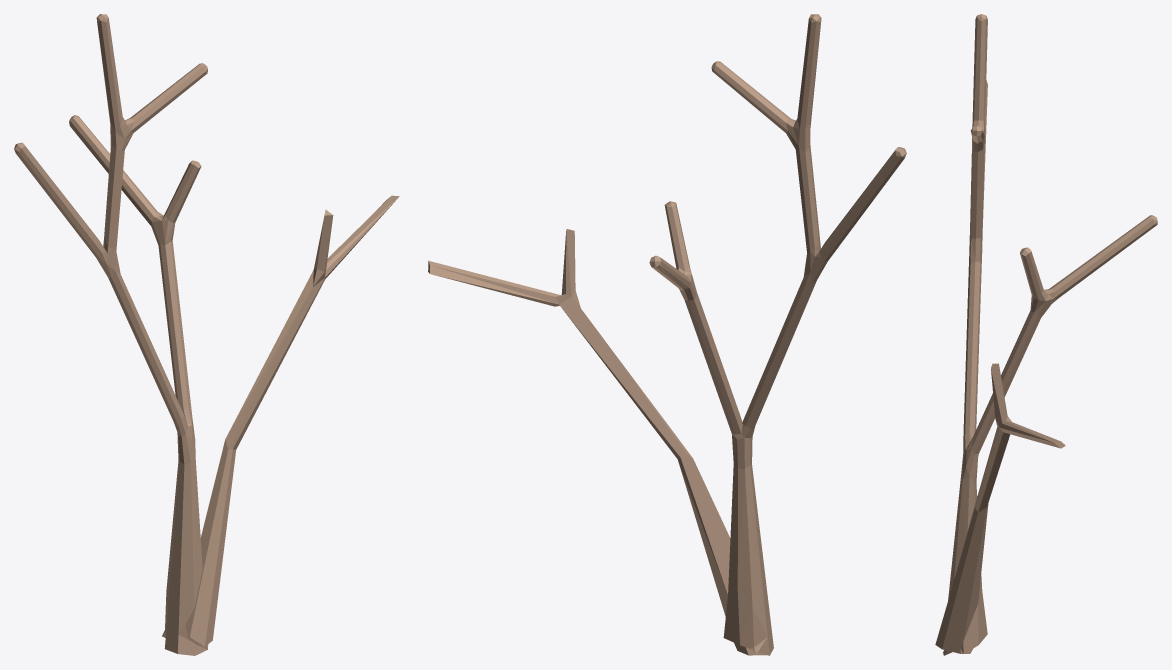
Rendered from trunk14.fbx.
3 renders of one model, left to right at view 1: azimuth 30°, elevation 25°; view 2: azimuth 150°, elevation 25°; view 3: azimuth 270°, elevation 25°, orthographic. The views are drawn at different scales.
Visible parts, largest first — view 1: trunk14; view 2: trunk14; view 3: trunk14.
Part boxes in pixels (x1,y1,x2,y2): trunk14: (14,14,399,655); trunk14: (428,14,906,655); trunk14: (935,14,1157,655).
Size of the model in its own units: 192 by 279 by 92.91.
